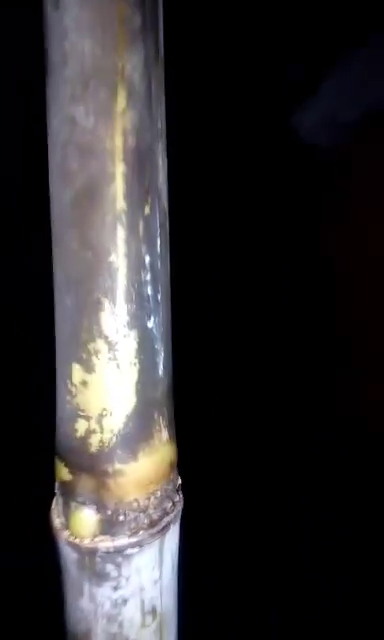cane eye: (66, 502, 103, 546)
